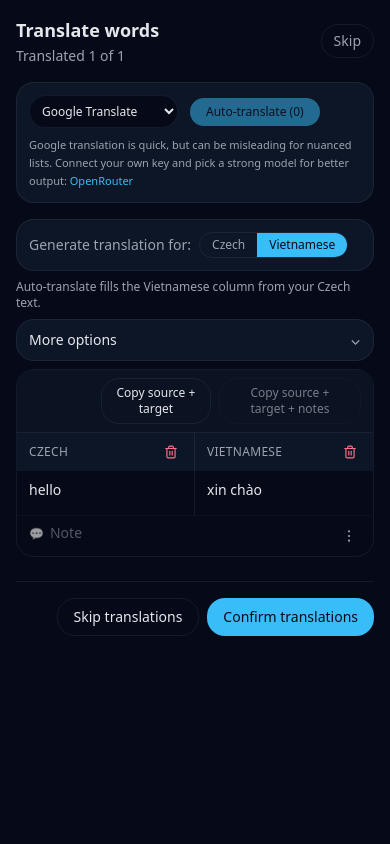
Test case: TranslationStep Google usage gating › warns before clearing target texts and saves them as empty for regeneration
Click the button named "clear vietnamese texts" at (350, 452), box [339,441,361,463]
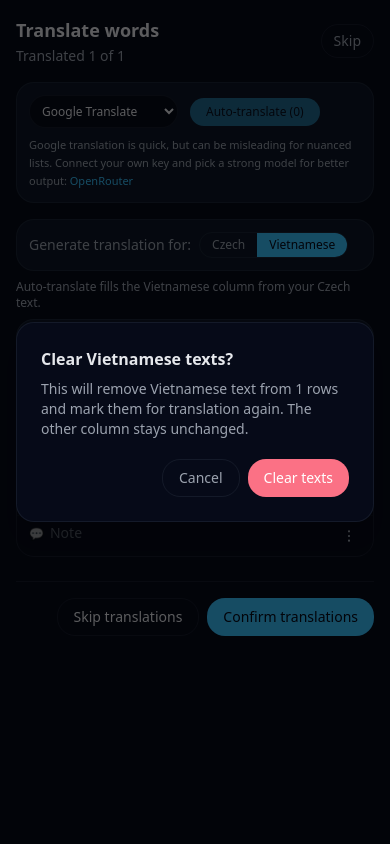
Now the text "mark them for translation again" is shown, box [41,379,338,438]
Click the button "Clear texts" at (298, 478), box [248,459,349,497]
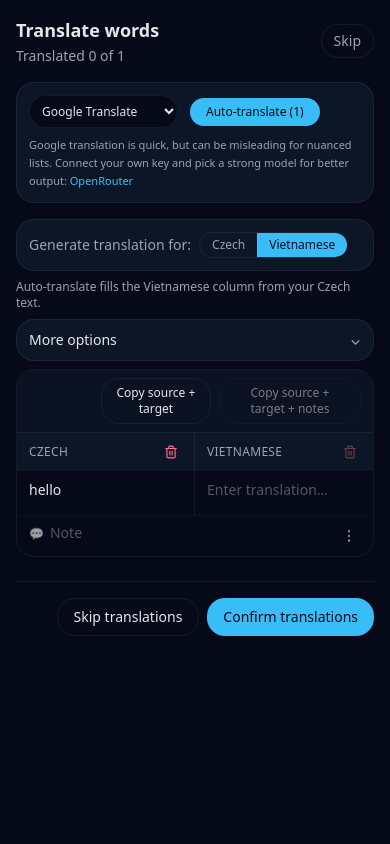
Now the text box named "vietnamese: translation" is empty, box [207,479,361,507]
